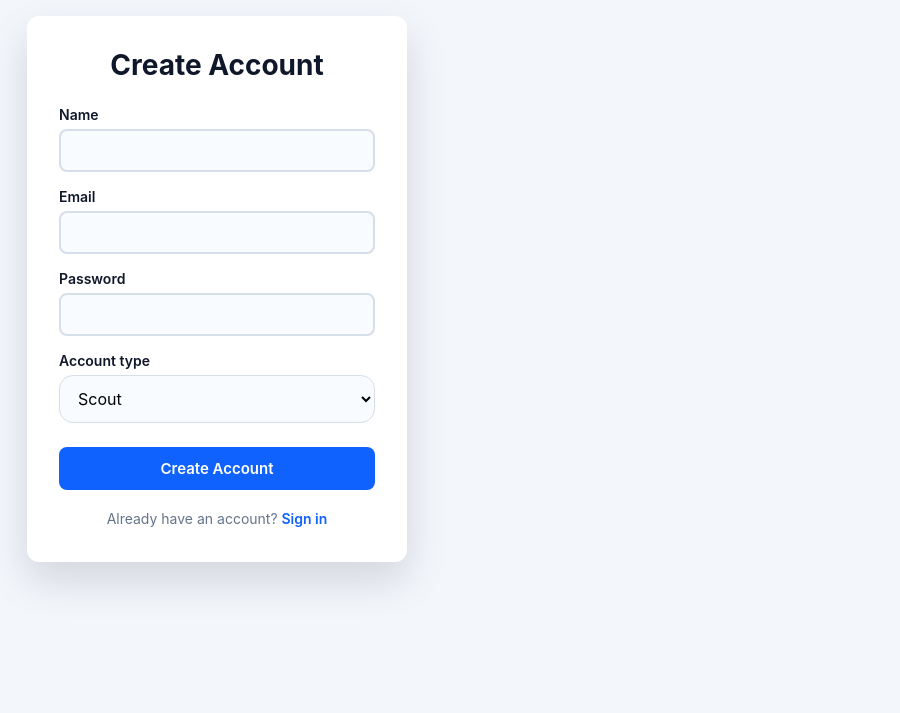
Test: RegisterPage › shows the server error when registration rejects (e.g. duplicate email)
Type "Ada Scout" into the field labelled "Name". click: (217, 150)
box: [59,129,375,172]
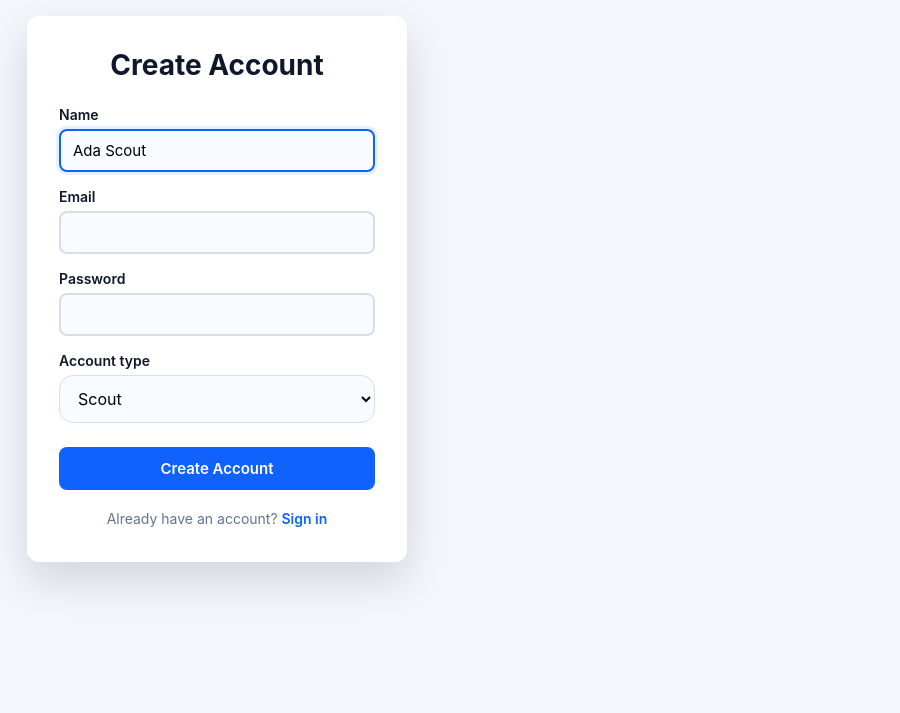
Type "ada@example.com" into the field labelled "Email". click: (217, 232)
box: [59,211,375,254]
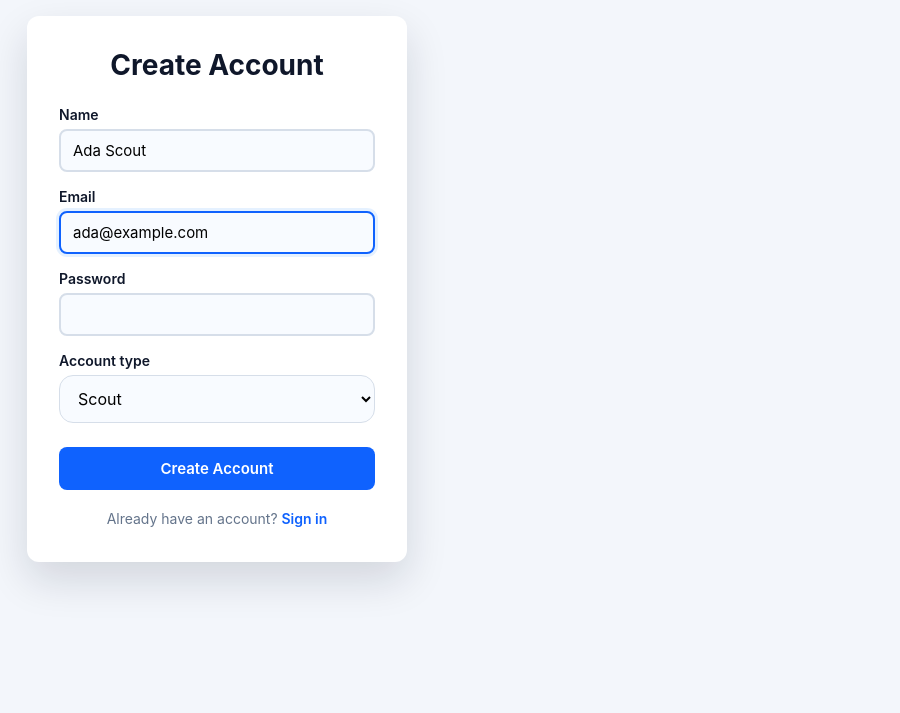
Type "password123" into the password field labelled "Password". click: (217, 314)
box: [59,293,375,336]
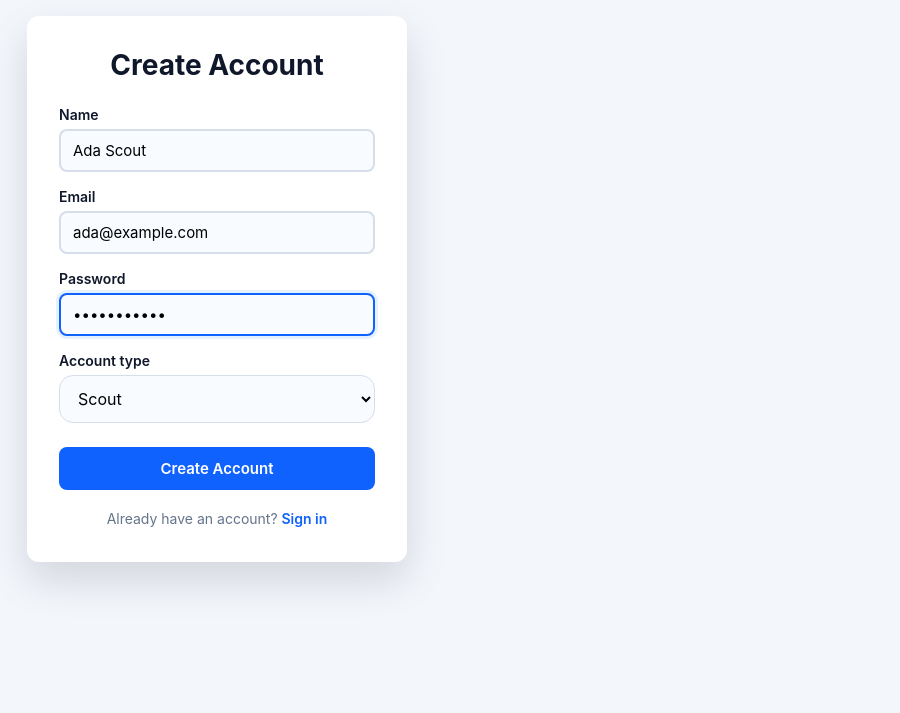
Click the button "Create Account". click: (217, 468)
box: [59,447,375,490]
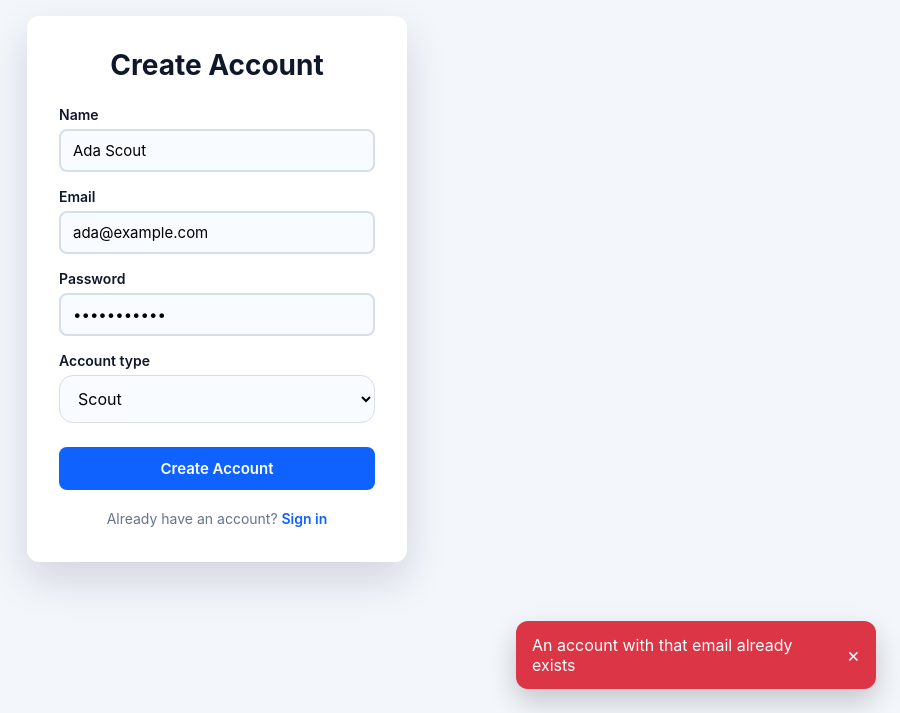
expect the text "An account with that email already exists" is shown: met, box [532,635,835,675]
